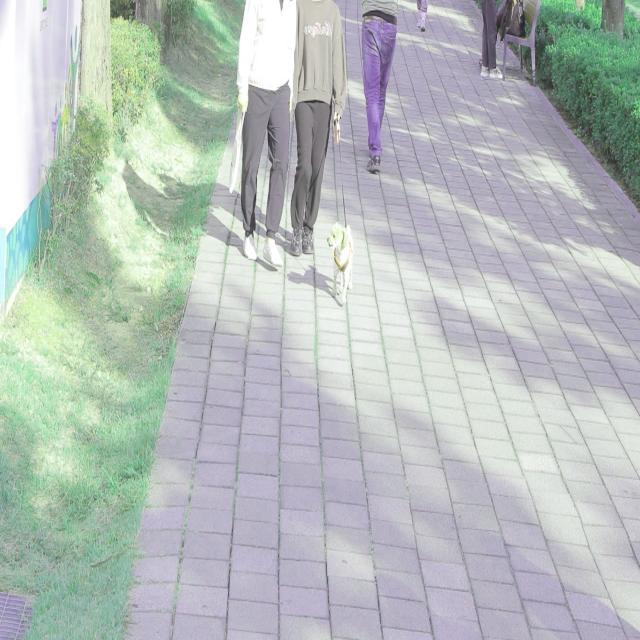Leashed_Dog: (319, 105, 353, 305)
